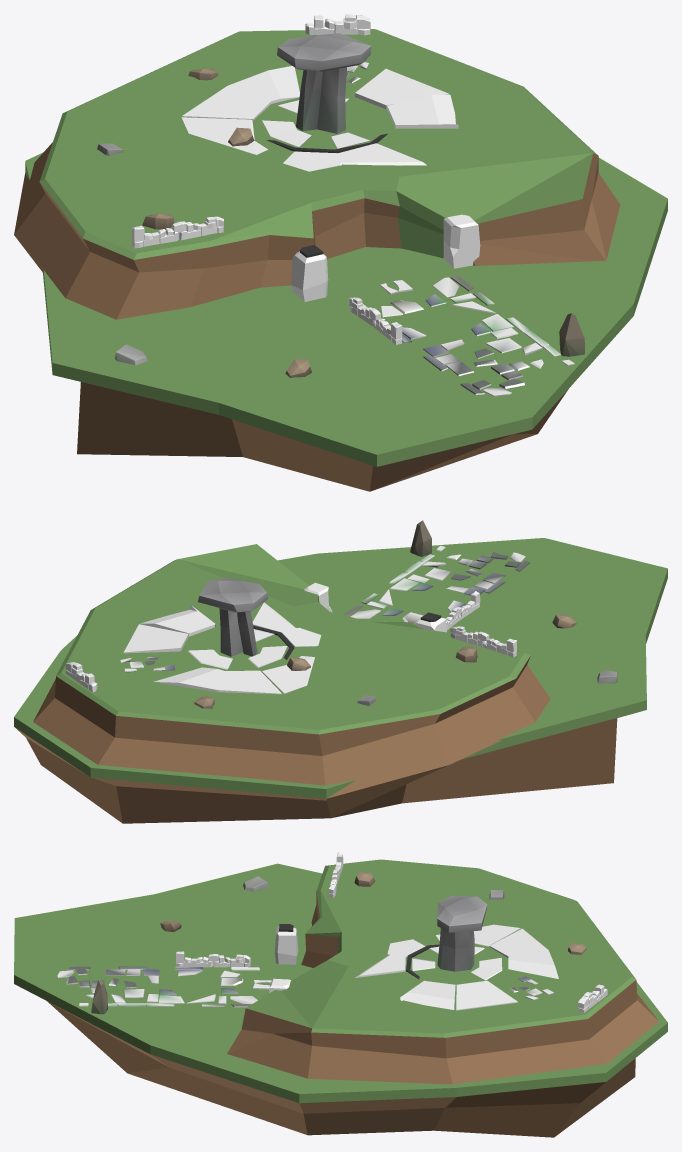
The model's file is SM_00 Sanctuary.fbx.
The picture shows the model from 3 angles, top to bottom: view 1: azimuth 30°, elevation 25°; view 2: azimuth 150°, elevation 25°; view 3: azimuth 270°, elevation 25°; orthographic projection. The views are drawn at different scales.
Visible parts, largest first — view 1: Island04.001, Santuary_stones.001, STREETStones.001, sanctuary_dolmen.001, Sanctuary02.001, StonesSquare.003, StonesSquare.002, WALL02.002, WALL01.002, WALL02.001, Stone_01.001; view 2: Island04.001, Santuary_stones.001, STREETStones.001, sanctuary_dolmen.001, Sanctuary02.001, WALL02.002, Stone_01.001, WALL02.001, WALL01.002; view 3: Island04.001, Santuary_stones.001, STREETStones.001, sanctuary_dolmen.001, Sanctuary02.001, StonesSquare.003, WALL02.001, WALL01.002, Stone_01.001.
Boxes of the visible parts, x1,y1,x2,y2 form: Island04.001: (14,29,667,491); Santuary_stones.001: (181,66,458,171); STREETStones.001: (363,276,574,396); sanctuary_dolmen.001: (277,33,371,133); Sanctuary02.001: (262,98,387,153); StonesSquare.003: (291,245,328,301); StonesSquare.002: (443,214,480,268); WALL02.002: (132,216,223,248); WALL01.002: (305,14,370,35); WALL02.001: (348,297,402,344); Stone_01.001: (559,313,584,356); Island04.001: (14,538,667,823); Santuary_stones.001: (123,602,321,694); STREETStones.001: (343,545,529,624); sanctuary_dolmen.001: (198,578,268,656); Sanctuary02.001: (188,625,294,669); WALL02.002: (450,626,516,657); Stone_01.001: (410,520,431,556); WALL02.001: (443,591,480,630); WALL01.002: (65,662,97,692); Island04.001: (14,859,667,1137); Santuary_stones.001: (355,924,558,1010); STREETStones.001: (57,966,271,1007); sanctuary_dolmen.001: (437,895,487,971); Sanctuary02.001: (406,944,502,980); StonesSquare.003: (275,924,298,964); WALL02.001: (176,951,250,967); WALL01.002: (578,984,607,1012); Stone_01.001: (91,980,107,1014).
Size of the model in its own units: 2050 by 887 by 2458.
